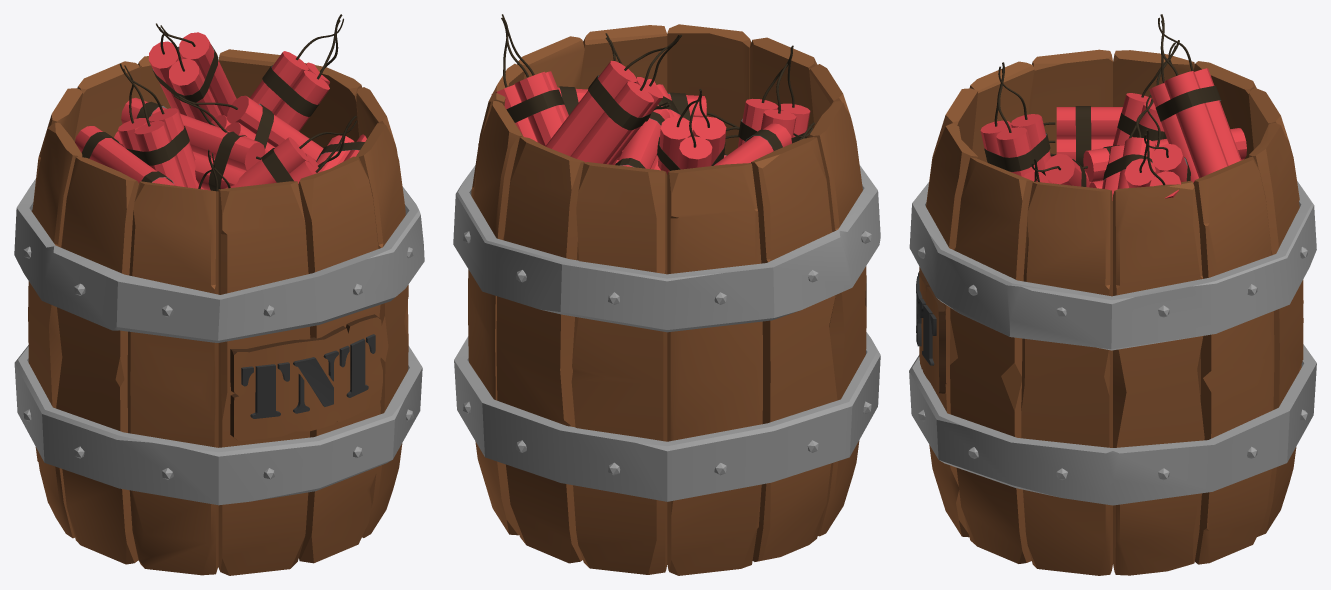
Rendered from BarrelWithTnt.fbx.
The picture shows the model from 3 angles, left to right: view 1: azimuth 30°, elevation 25°; view 2: azimuth 150°, elevation 25°; view 3: azimuth 270°, elevation 25°; orthographic projection. The views are drawn at different scales.
Visible parts, largest first — view 1: BarrelWithTNT; view 2: BarrelWithTNT; view 3: BarrelWithTNT.
Part boxes in pixels (x1,y1,x2,y2): BarrelWithTNT: [14, 14, 424, 575]; BarrelWithTNT: [453, 14, 880, 575]; BarrelWithTNT: [909, 14, 1316, 575].
Bounding box in the file's own units: 242 × 306 × 240.
